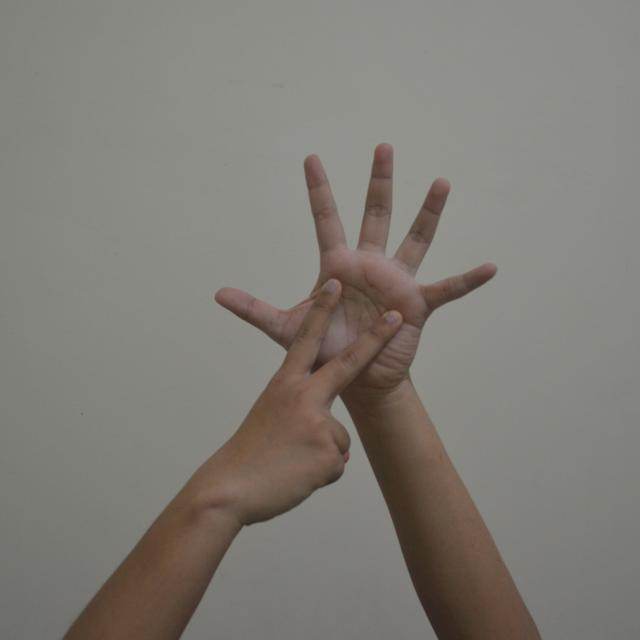N: (195, 126, 508, 520)
